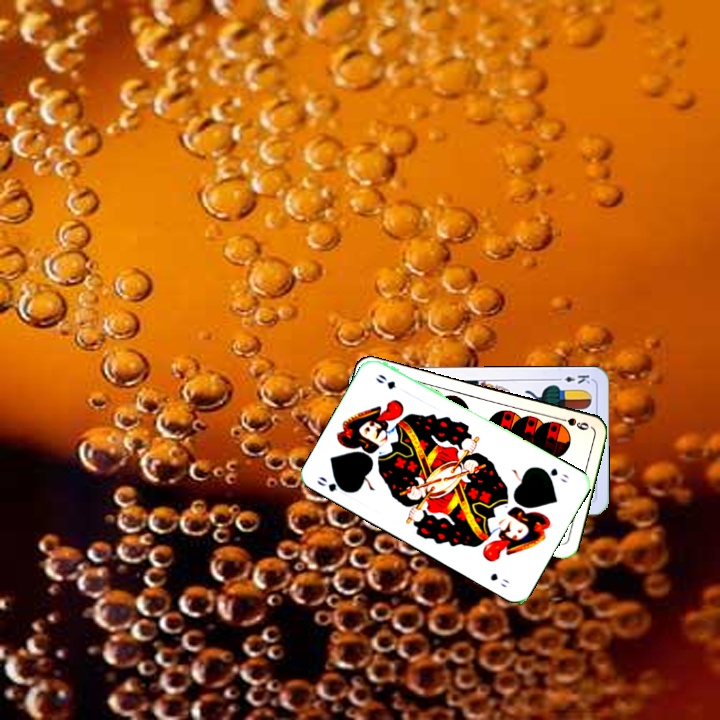EK: (552, 371, 592, 387)
GO: (313, 472, 352, 495), (536, 464, 571, 485)
S9: (553, 413, 592, 433)
